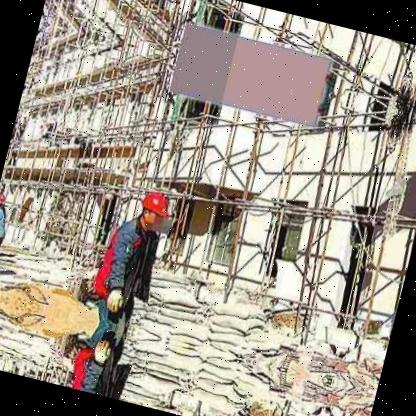capacete: (138, 186, 178, 226)
